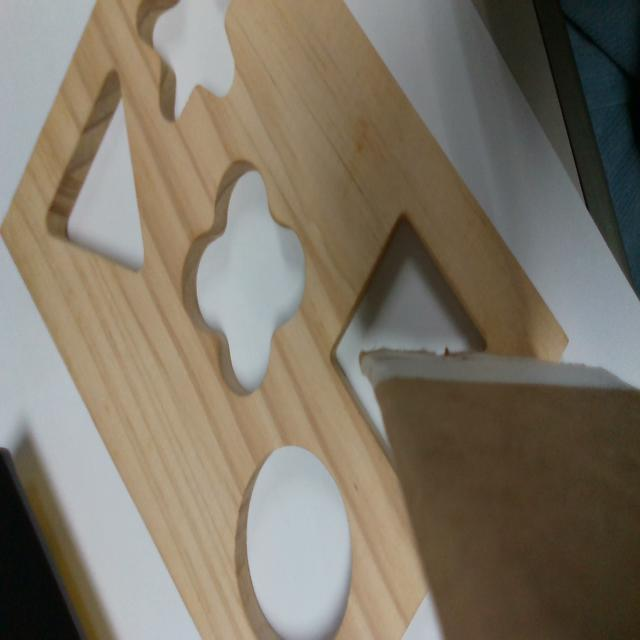circle: (236, 450, 353, 634)
flower: (180, 156, 308, 390)
square: (325, 211, 488, 486)
star: (136, 2, 236, 121)
triangle: (44, 70, 146, 272)
